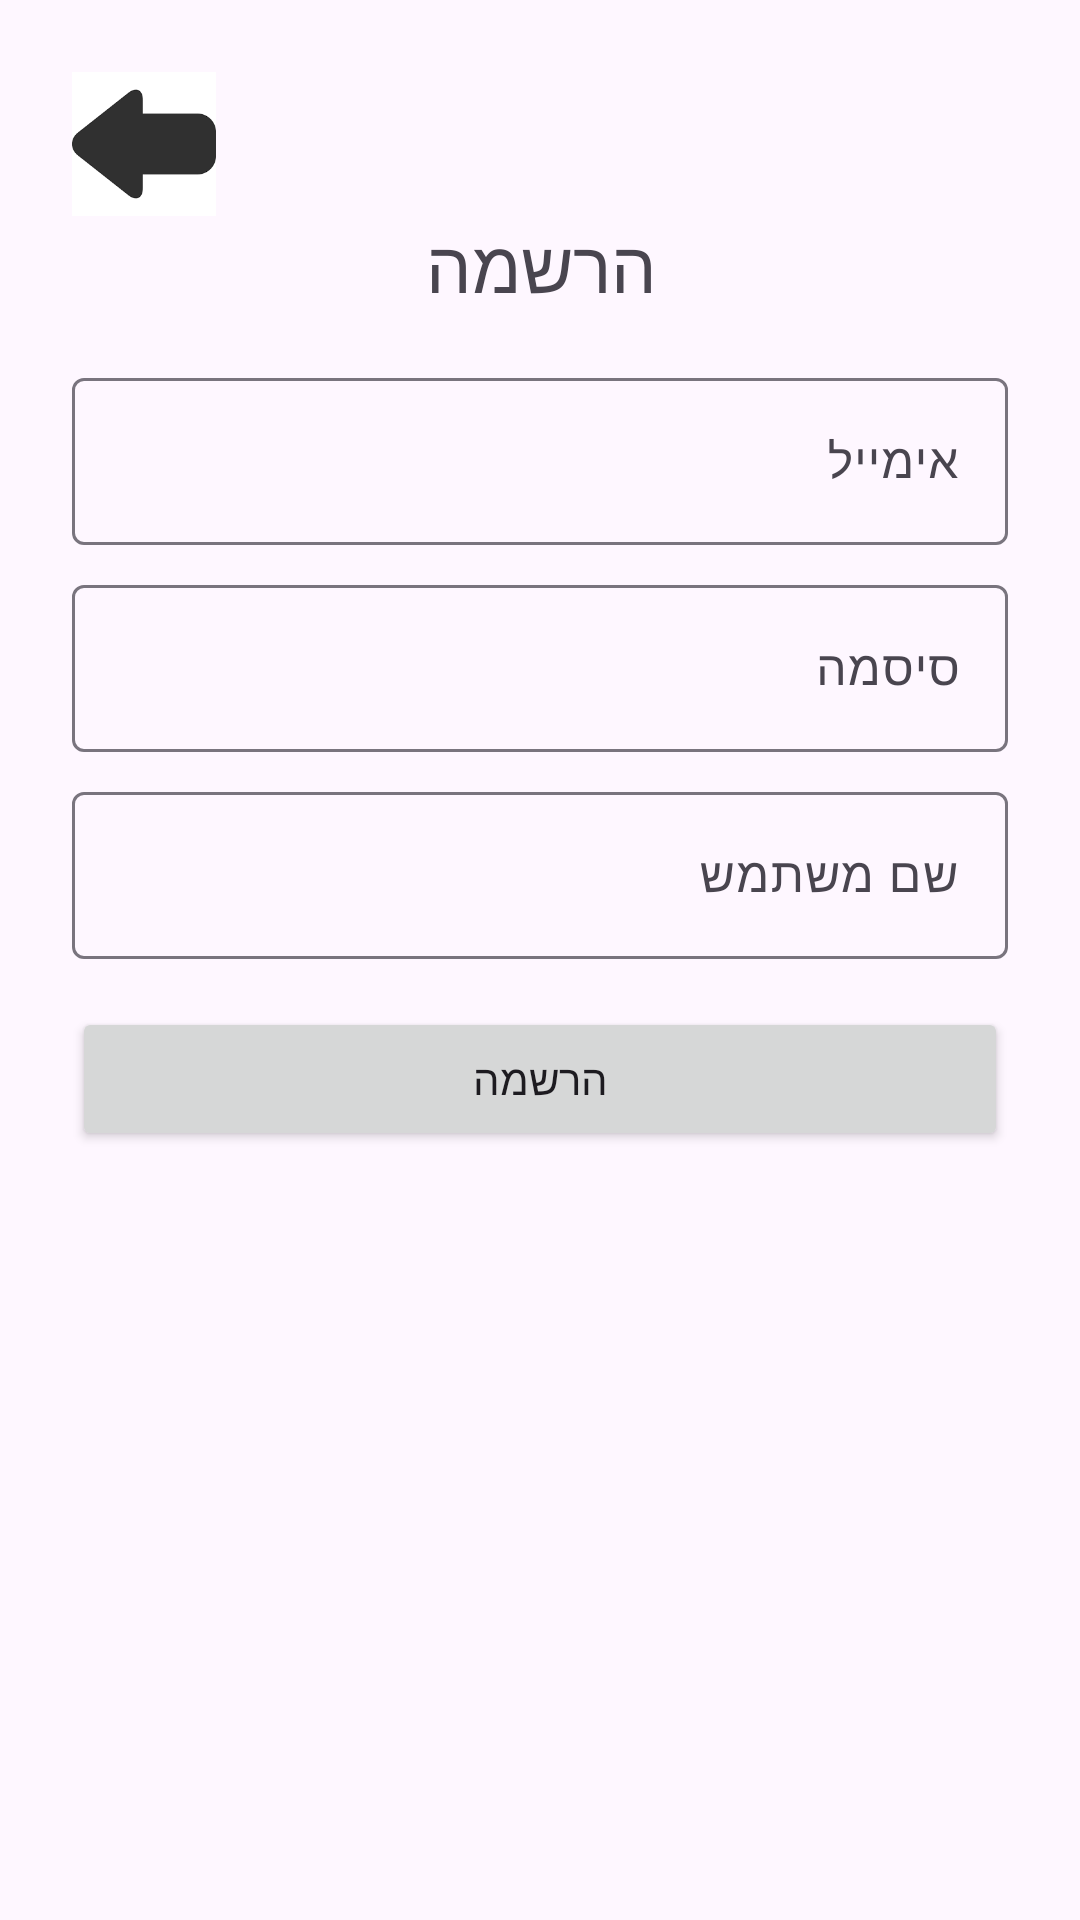

Named icons in this screenshot (1080w x 1920h) and their centers, (x=x, y=y):
Back: (x=144, y=144)
